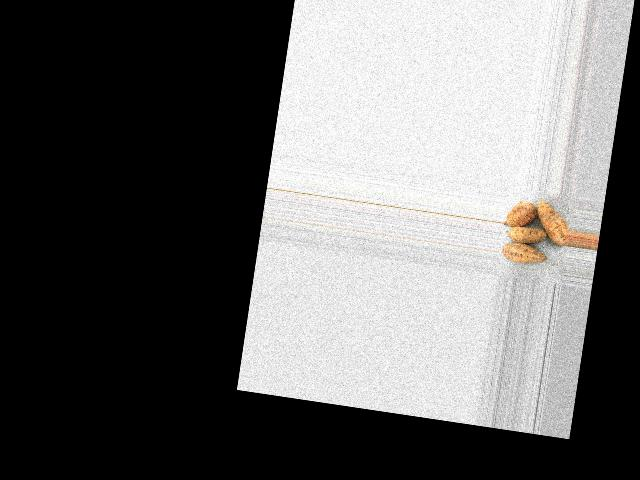sweet_potato: (531, 196, 574, 251)
